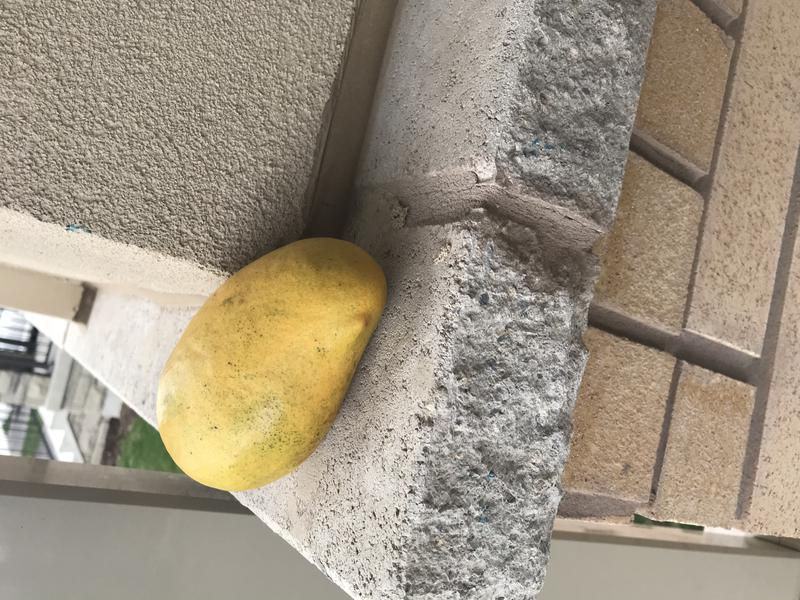mango: (143, 227, 396, 500)
